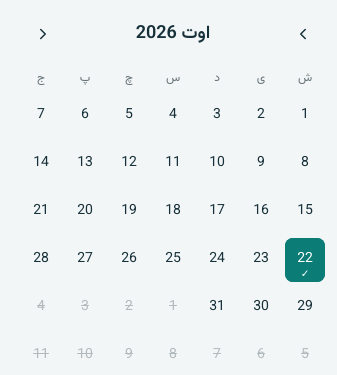
Test case: availability calendar › keeps the Gregorian grid available when configured
This screenshot has width=337, height=375.
expect the text "اوت 2026" is shown: met, box [136,22,210,46]
Click the button named "ماه بعد" at [43, 34], box [21,12,65,56]
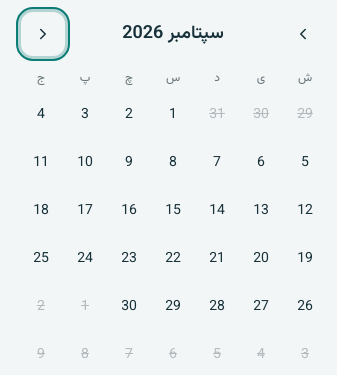
expect the text "سپتامبر 2026" is shown: met, box [122,22,224,46]
